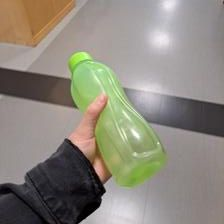bottle: (67, 46, 166, 189)
